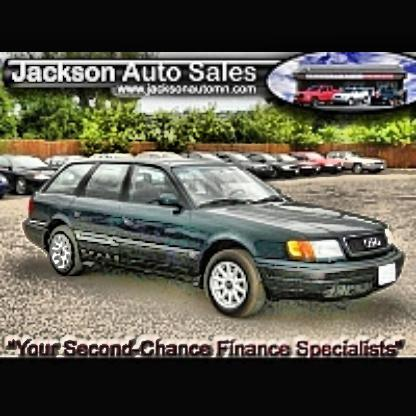Audi 100 Wagon 1994: (26, 157, 408, 323)
